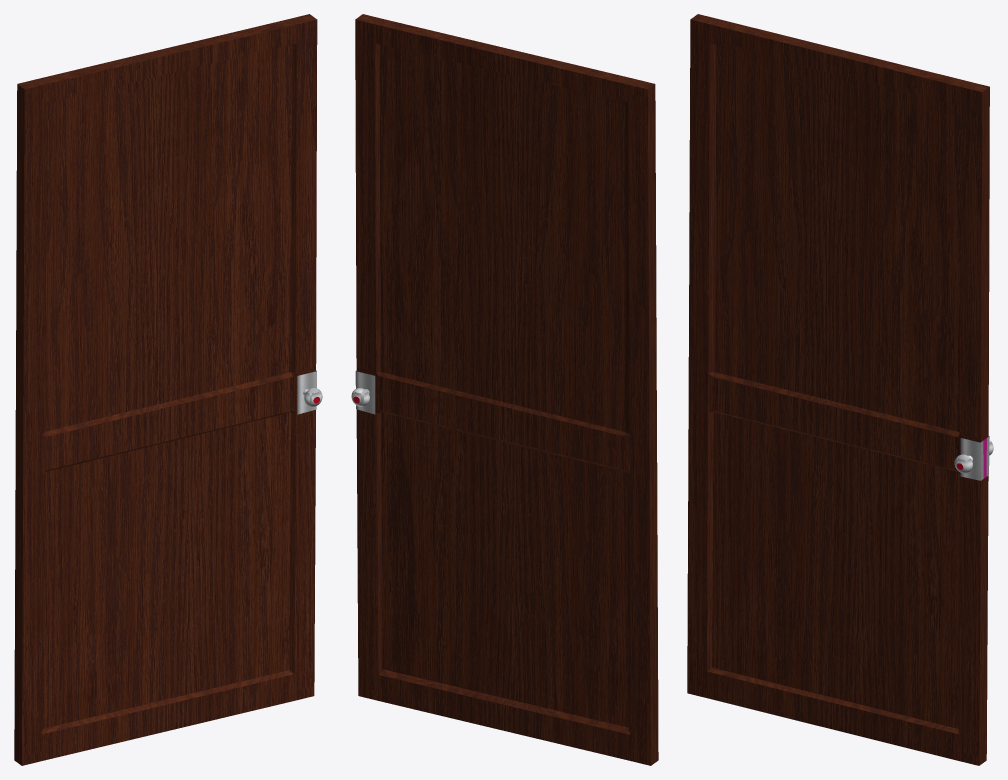
The model's file is puerta1O.fbx.
The picture shows the model from 3 angles, left to right: view 1: azimuth 30°, elevation 25°; view 2: azimuth 150°, elevation 25°; view 3: azimuth 330°, elevation 25°; orthographic projection.
Visible parts, largest first — view 1: Cylinder; view 2: Cylinder; view 3: Cylinder.
Part boxes in pixels (x1,y1,x2,y2): Cylinder: [14, 14, 322, 765]; Cylinder: [351, 14, 658, 765]; Cylinder: [687, 14, 993, 765].
Bounding box in the file's own units: 314 × 688 × 54.22.
